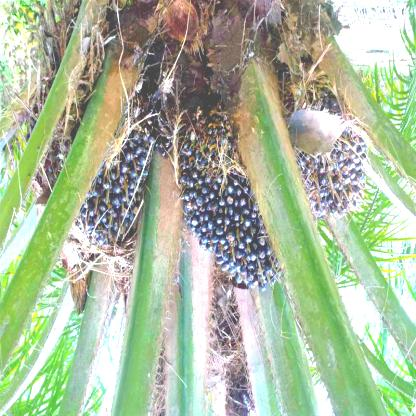palm-oil: (178, 124, 281, 295), (273, 82, 370, 218), (82, 140, 148, 260), (26, 75, 77, 208)
